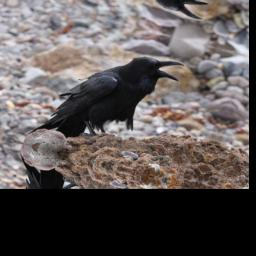Crow: (27, 34, 185, 164)
